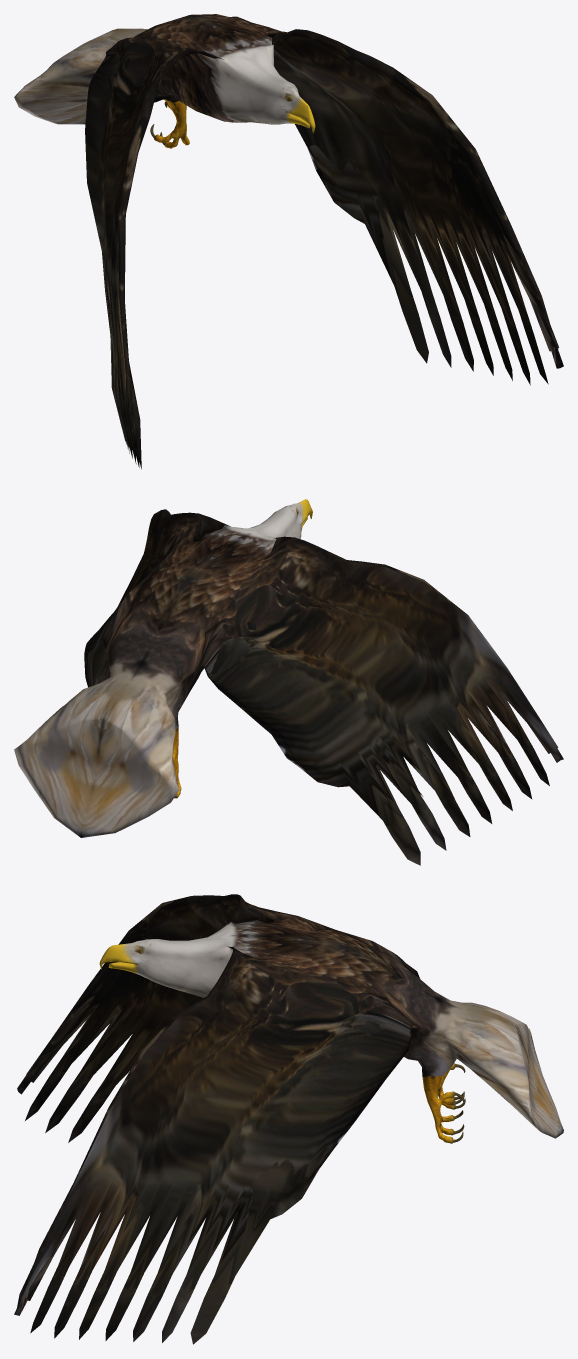
The model's file is Eagle-original_000013.obj.
3 views of the same model, one above another, from view 1: azimuth 30°, elevation 25°; view 2: azimuth 150°, elevation 25°; view 3: azimuth 270°, elevation 25° (orthographic). The views are drawn at different scales.
Visible parts, largest first — view 1: Flugel_Plane.003; view 2: Flugel_Plane.003; view 3: Flugel_Plane.003.
Part boxes in pixels (<box>): Flugel_Plane.003: <box>14,14,563,469</box>; Flugel_Plane.003: <box>14,499,563,865</box>; Flugel_Plane.003: <box>14,894,563,1344</box>.
Bounding box in the file's own units: 5.82 × 4.54 × 6.6.
Materials: 1 (1 with a texture image).
